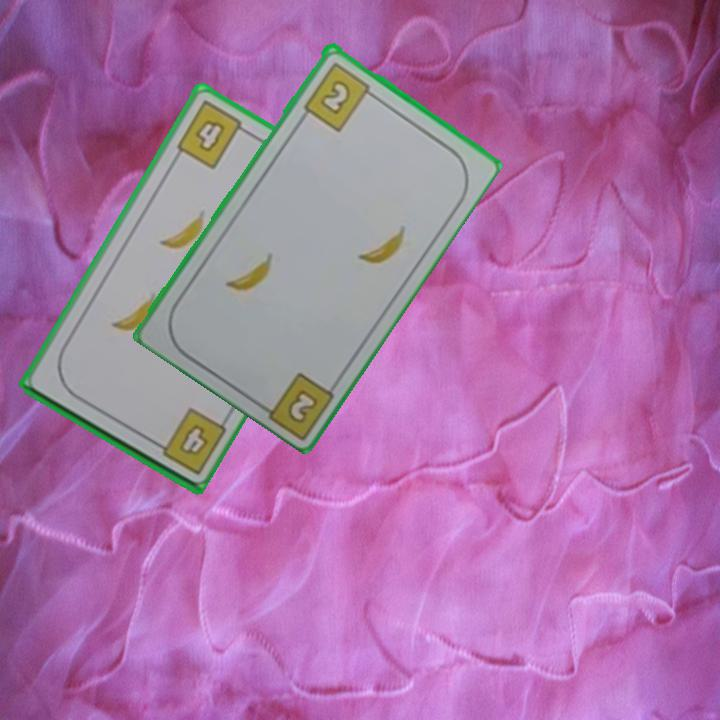2b: (300, 58, 379, 134), (286, 389, 318, 423)
4b: (172, 96, 252, 172), (147, 404, 229, 478)
